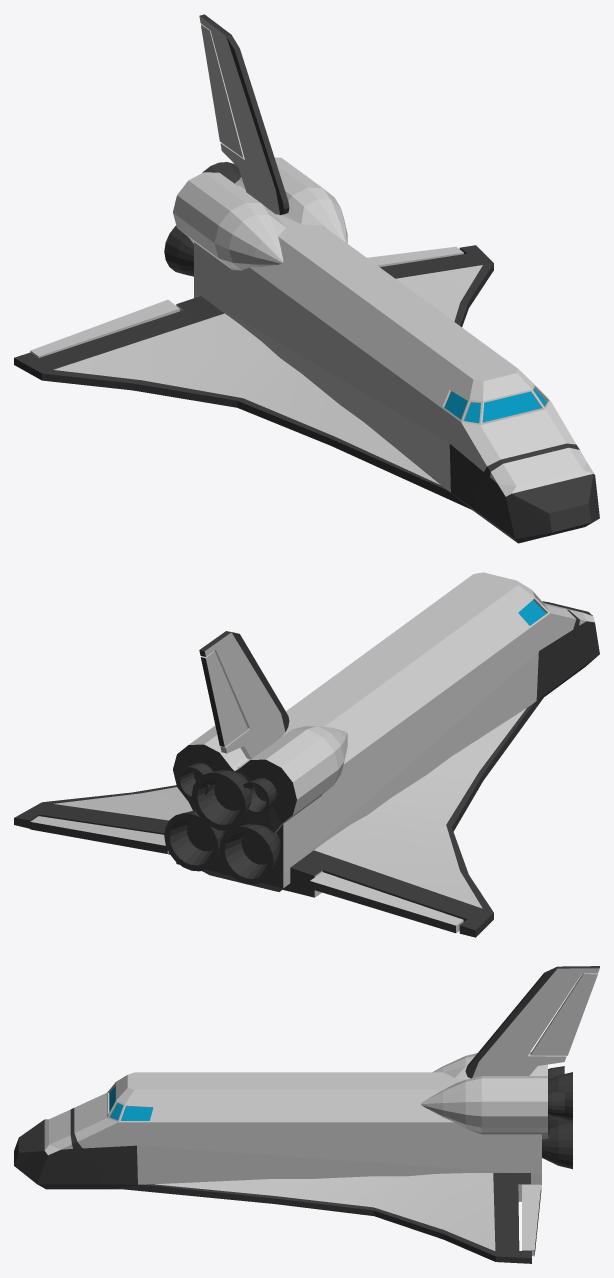
Rendered from SpaceShuttle.fbx.
3 views of the same model, one above another, from view 1: azimuth 30°, elevation 25°; view 2: azimuth 150°, elevation 25°; view 3: azimuth 270°, elevation 25° (orthographic). The views are drawn at different scales.
Visible parts, largest first — view 1: SpaceShuttle; view 2: SpaceShuttle; view 3: SpaceShuttle.
Boxes of the visible parts, x1,y1,x2,y2 form: SpaceShuttle: [14, 14, 599, 543]; SpaceShuttle: [14, 572, 599, 937]; SpaceShuttle: [14, 966, 599, 1263].
Size of the model in its own units: 6.26 by 3.42 by 8.68.
